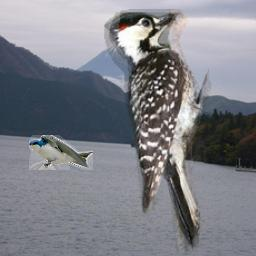Swallow: (29, 135, 93, 170)
Woodpecker: (101, 9, 217, 253)
